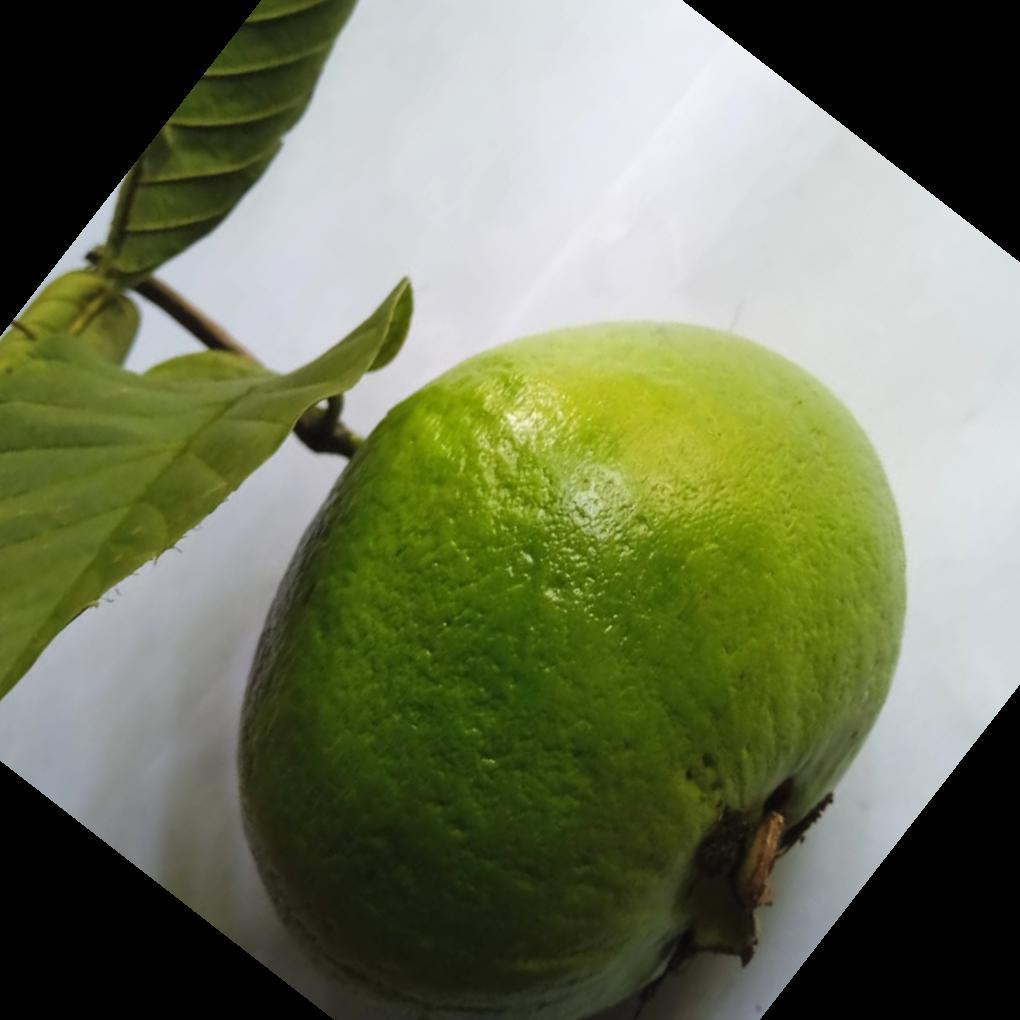FreshGuava: (232, 321, 909, 1020)
